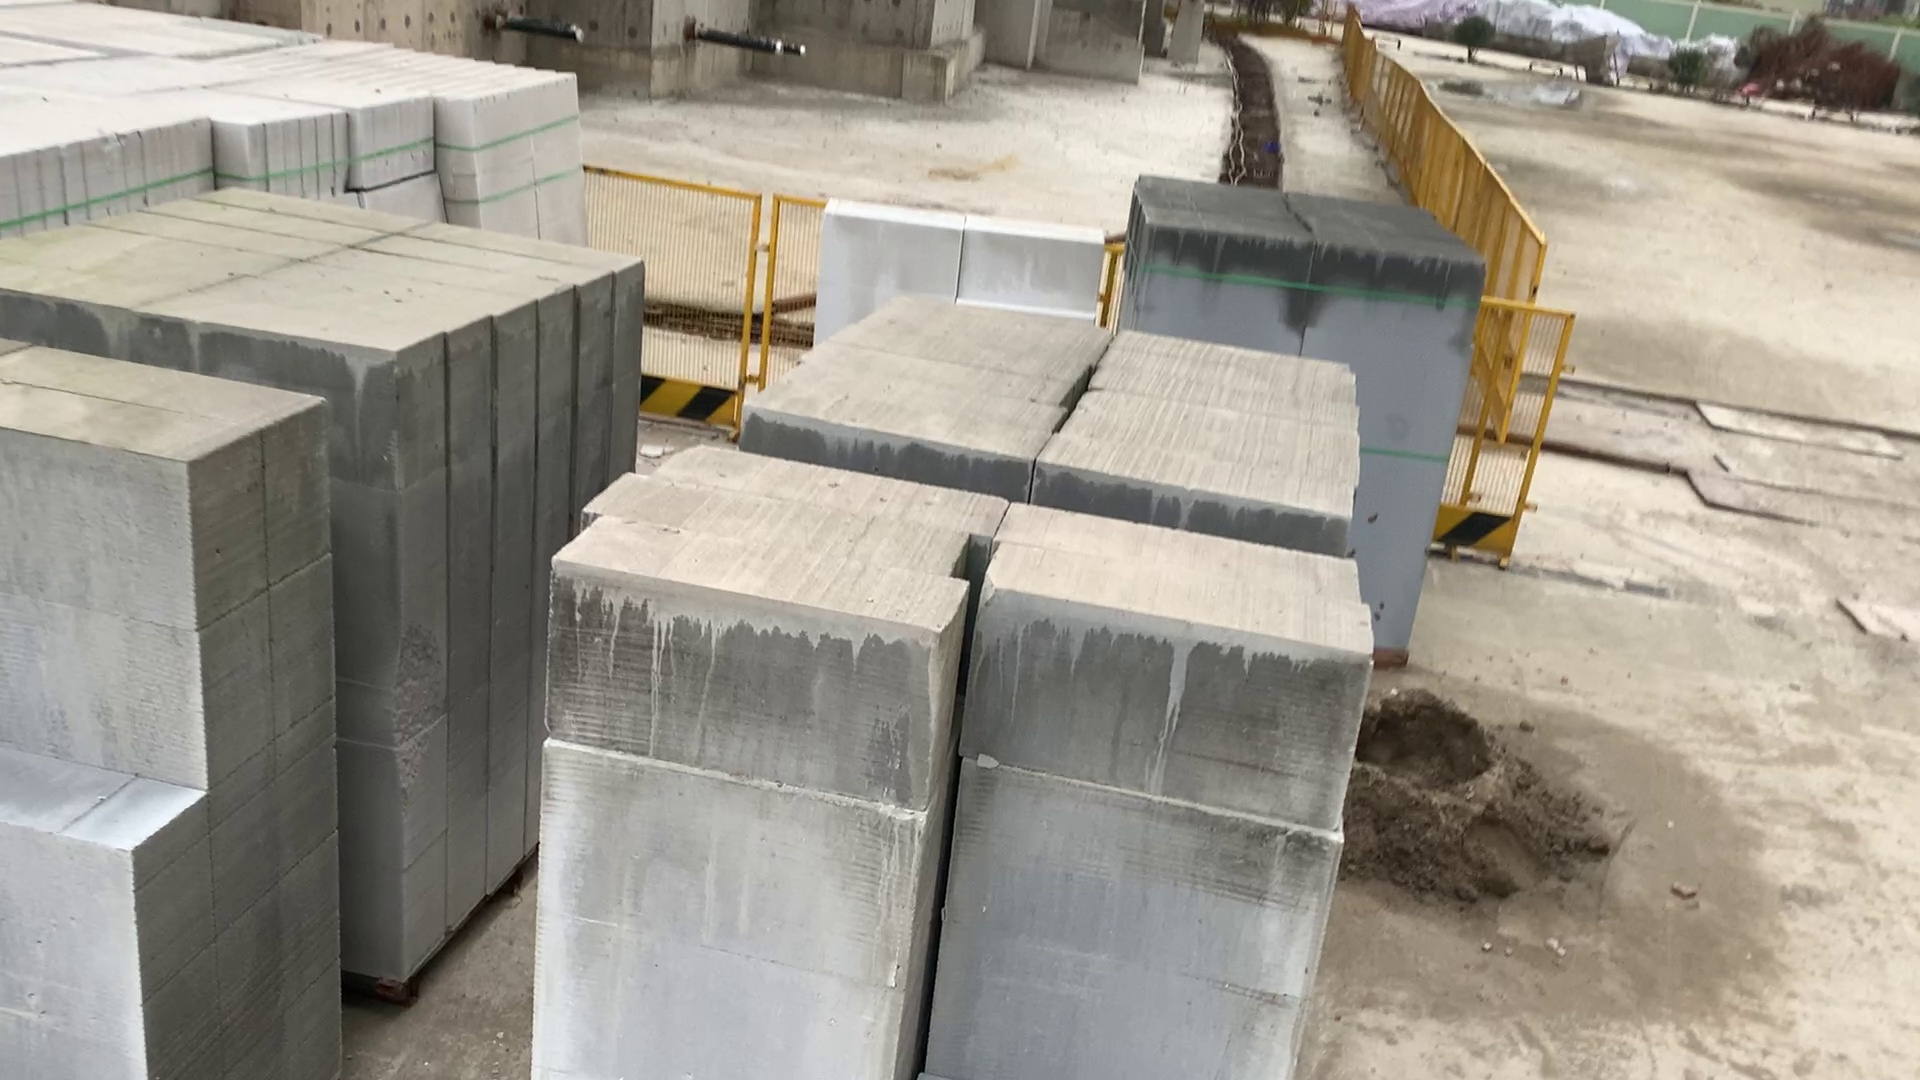brickwork: (574, 436, 1366, 1073), (3, 335, 342, 1080), (775, 280, 1371, 529), (1, 179, 650, 407), (8, 58, 429, 218), (1133, 173, 1489, 343), (260, 30, 576, 125)
